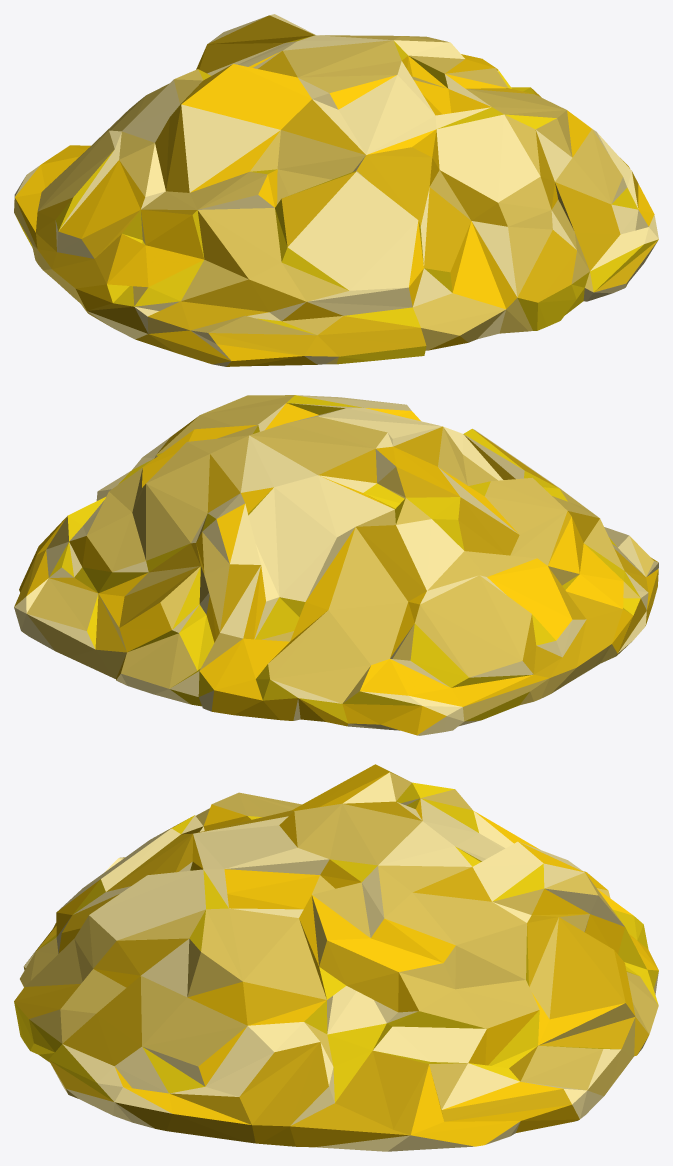
File: RG-Dungeon_Golden-Pile.fbx
3 renders of one model, top to bottom at view 1: azimuth 30°, elevation 25°; view 2: azimuth 150°, elevation 25°; view 3: azimuth 270°, elevation 25°, orthographic. The views are drawn at different scales.
Parts seen in each view (by area): view 1: RG-Dungeon_Golden-Pile; view 2: RG-Dungeon_Golden-Pile; view 3: RG-Dungeon_Golden-Pile.
Boxes of the visible parts, box(x1,y1,x2,y2) form: RG-Dungeon_Golden-Pile: box(14, 14, 658, 366); RG-Dungeon_Golden-Pile: box(14, 395, 658, 735); RG-Dungeon_Golden-Pile: box(14, 764, 658, 1151).
Size of the model in its own units: 4 by 1.24 by 3.78.
